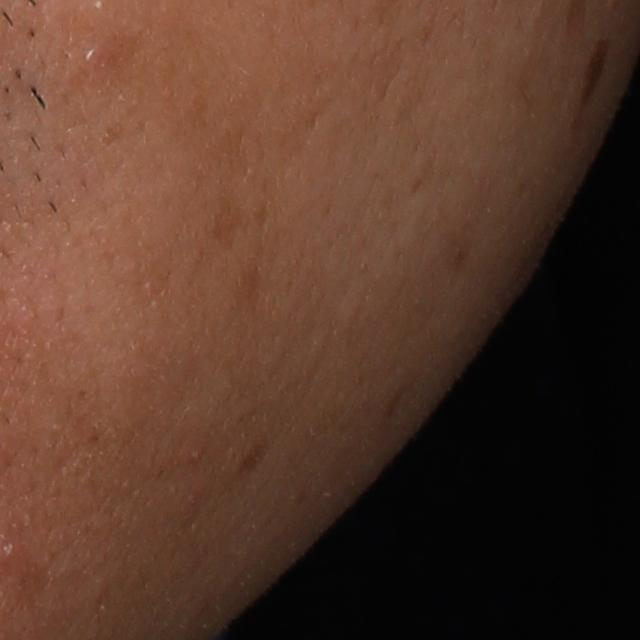nevus: (582, 30, 610, 107)
